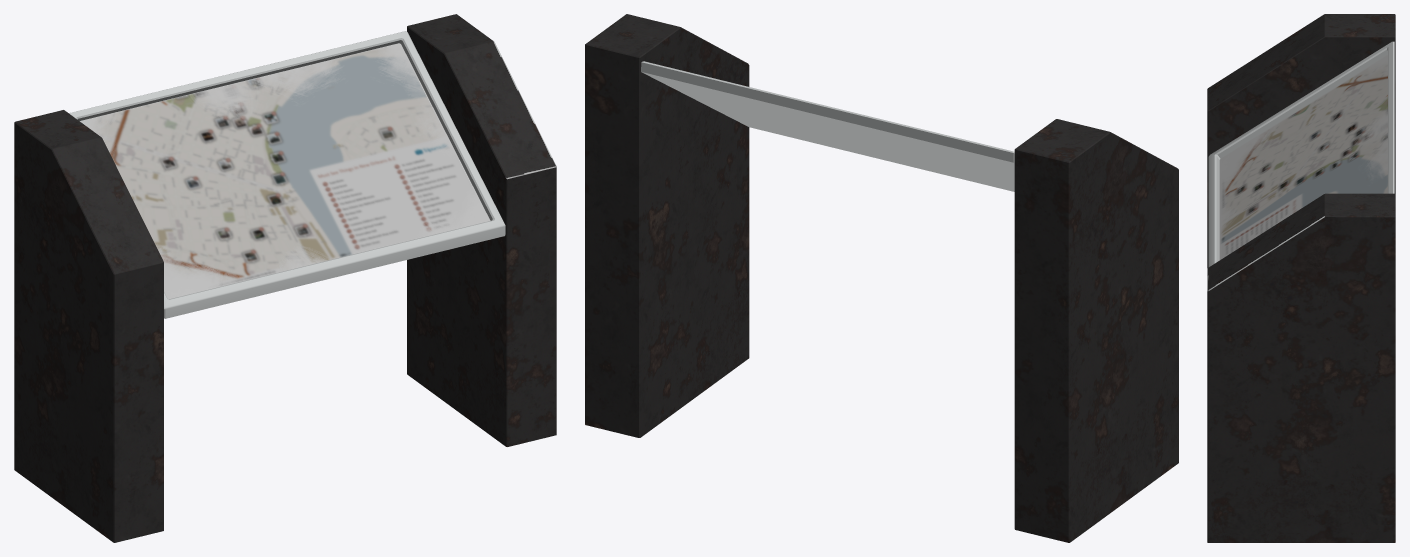
Rendered from mapTable.glb.
The picture shows the model from 3 angles, left to right: view 1: azimuth 30°, elevation 25°; view 2: azimuth 150°, elevation 25°; view 3: azimuth 270°, elevation 25°; orthographic projection. The views are drawn at different scales.
Parts seen in each view (by area): view 1: SM_MapTable; view 2: SM_MapTable; view 3: SM_MapTable.
Boxes of the visible parts, <box> form: SM_MapTable: <box>14,14,556,542</box>; SM_MapTable: <box>585,14,1178,542</box>; SM_MapTable: <box>1207,14,1395,542</box>.
Size of the model in its own units: 1.57 by 1.18 by 0.6171.
1 material, 1 textured.
